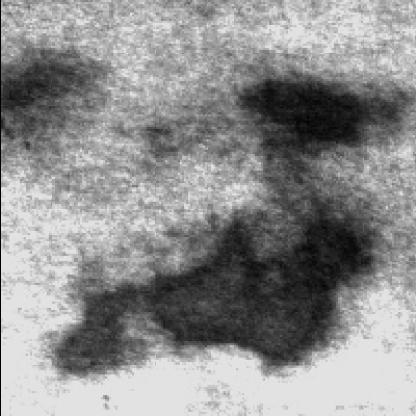patches: (65, 208, 382, 370), (239, 68, 410, 152), (4, 50, 88, 112)
